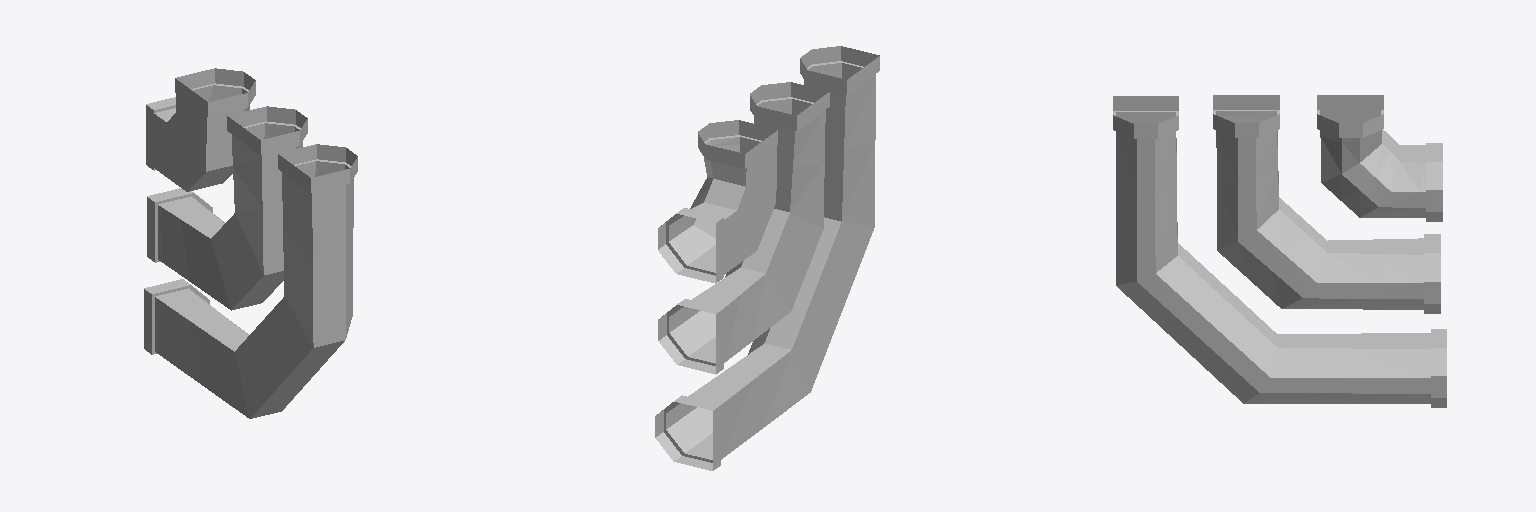
Rendered from 3Pipe_Curve_Low.obj.
3 renders of one model, left to right at view 1: azimuth 30°, elevation 25°; view 2: azimuth 150°, elevation 25°; view 3: azimuth 270°, elevation 25°, orthographic.
Visible parts, largest first — view 1: Low; view 2: Low; view 3: Low.
Boxes of the visible parts, <box> form: Low: <box>144,68,357,418</box>; Low: <box>655,46,879,470</box>; Low: <box>1113,95,1446,407</box>.
Bounding box in the file's own units: 0.4027 × 1.95 × 2.01.